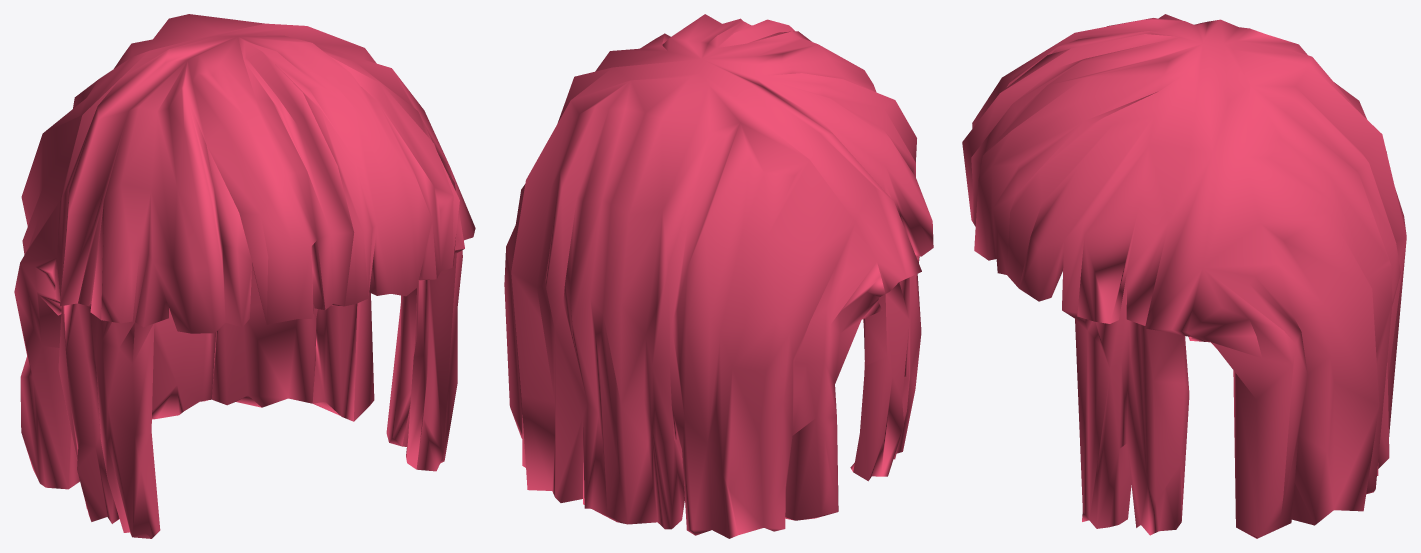
File: Hair_2.FBX
3 views of the same model, side by side, from view 1: azimuth 30°, elevation 25°; view 2: azimuth 150°, elevation 25°; view 3: azimuth 270°, elevation 25° (orthographic). The views are drawn at different scales.
Parts seen in each view (by area): view 1: Hair_2; view 2: Hair_2; view 3: Hair_2.
Boxes of the visible parts, x1,y1,x2,y2 form: Hair_2: (14, 14, 475, 538); Hair_2: (504, 14, 933, 538); Hair_2: (962, 14, 1406, 538).
Bounding box in the file's own units: 0.2182 × 0.2254 × 0.2123.
